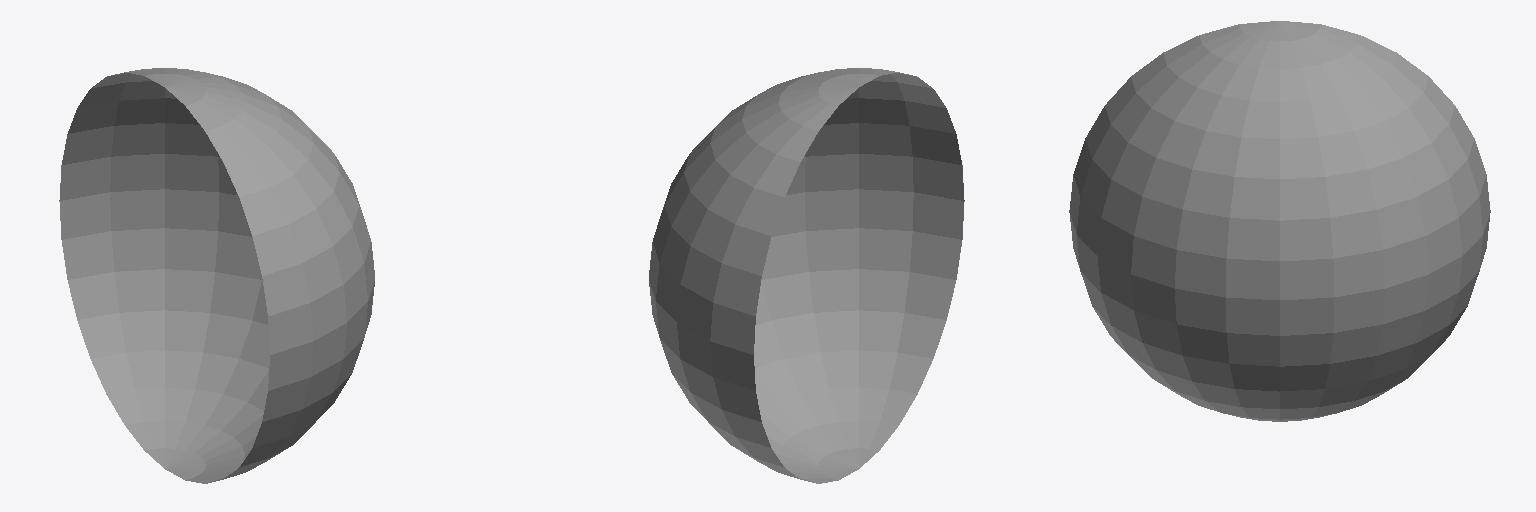
File: hemisphere.obj
3 renders of one model, left to right at view 1: azimuth 30°, elevation 25°; view 2: azimuth 150°, elevation 25°; view 3: azimuth 270°, elevation 25°, orthographic.
Visible parts, largest first — view 1: Sphere; view 2: Sphere; view 3: Sphere.
Part boxes in pixels (x1,y1,x2,y2): Sphere: (59,68,374,483); Sphere: (649,68,964,483); Sphere: (1069,21,1490,421).
Bounding box in the file's own units: 1 × 2 × 2.